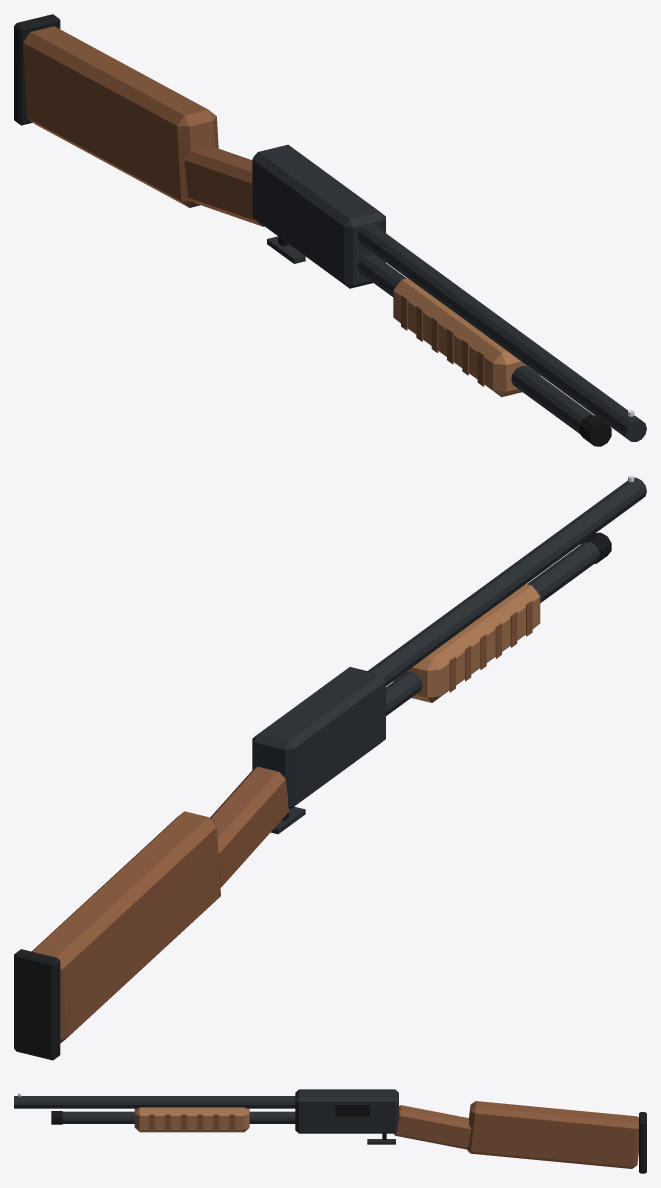
Rendered from Weapon_Shotgun.fbx.
The picture shows the model from 3 angles, top to bottom: view 1: azimuth 30°, elevation 25°; view 2: azimuth 150°, elevation 25°; view 3: azimuth 270°, elevation 25°; orthographic projection. The views are drawn at different scales.
Visible parts, largest first — view 1: Stock, Receiver, Barrel, Pump, Wrist, Tube, ButtPad, Cap; view 2: Stock, Receiver, Barrel, Wrist, Pump, ButtPad, Tube; view 3: Stock, Receiver, Barrel, Pump, Wrist, Tube, ButtPad, Port.001, Guard, Cap.
Boxes of the visible parts, left/top/right/bottom form: Stock: left=23, top=26, right=218, bottom=207; Receiver: left=252, top=144, right=385, bottom=288; Barrel: left=358, top=224, right=646, bottom=441; Pump: left=393, top=278, right=540, bottom=397; Wrist: left=184, top=146, right=264, bottom=226; Tube: left=358, top=253, right=593, bottom=433; ButtPad: left=14, top=14, right=60, bottom=125; Cap: left=579, top=415, right=611, bottom=446; Stock: left=32, top=811, right=220, bottom=1043; Receiver: left=252, top=667, right=385, bottom=809; Barrel: left=368, top=477, right=646, bottom=686; Wrist: left=210, top=766, right=289, bottom=887; Pump: left=393, top=584, right=540, bottom=702; ButtPad: left=14, top=949, right=60, bottom=1060; Tube: left=386, top=541, right=600, bottom=715; Stock: left=466, top=1101, right=638, bottom=1168; Receiver: left=295, top=1089, right=398, bottom=1133; Barrel: left=14, top=1096, right=295, bottom=1108; Pump: left=134, top=1107, right=249, bottom=1132; Wrist: left=394, top=1105, right=470, bottom=1149; Tube: left=62, top=1111, right=295, bottom=1123; ButtPad: left=639, top=1112, right=646, bottom=1173; Port.001: left=335, top=1105, right=369, bottom=1116; Guard: left=367, top=1139, right=395, bottom=1144; Cap: left=51, top=1111, right=62, bottom=1124.
Size of the model in its own units: 0.052 by 0.145 by 1.1.
